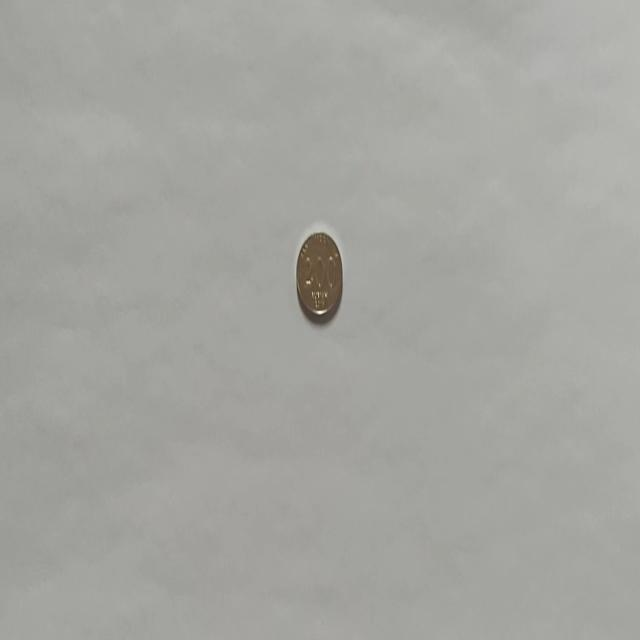dua ratus rupiah: (295, 229, 343, 323)
